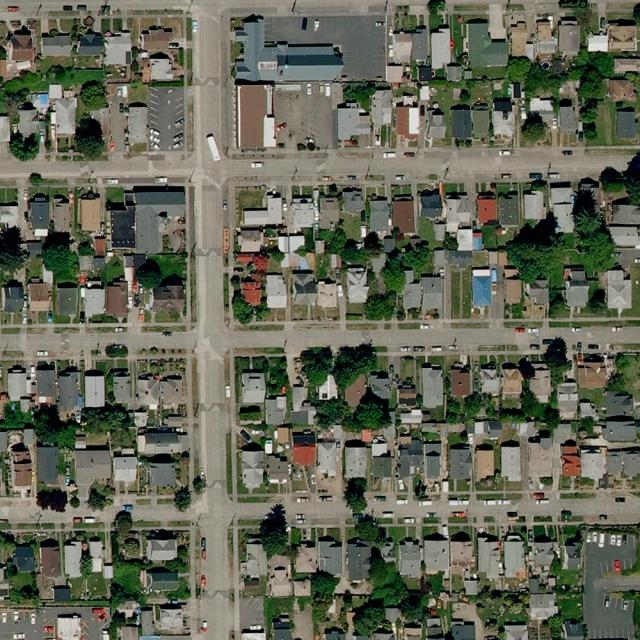building: (234, 15, 345, 83), (134, 186, 185, 254), (235, 83, 277, 149), (466, 17, 510, 69), (332, 101, 372, 142), (587, 21, 638, 53), (136, 425, 189, 455), (139, 374, 184, 408), (73, 449, 113, 485), (564, 264, 591, 316), (339, 370, 374, 410), (242, 192, 283, 226), (392, 25, 428, 63), (549, 181, 573, 233), (241, 442, 266, 490), (8, 31, 37, 71), (139, 566, 180, 594), (267, 555, 294, 597), (529, 430, 552, 478), (421, 362, 444, 409), (111, 206, 136, 249), (11, 443, 33, 490), (478, 532, 500, 579), (446, 192, 471, 233), (424, 532, 449, 573), (527, 362, 552, 403), (146, 530, 178, 562), (152, 283, 186, 313), (147, 453, 176, 488), (82, 279, 107, 319), (399, 438, 424, 478), (430, 25, 452, 70), (57, 366, 79, 411), (348, 538, 371, 581), (603, 414, 637, 443), (103, 32, 131, 67), (525, 280, 550, 319), (292, 269, 318, 306), (421, 275, 444, 316), (317, 536, 341, 575), (504, 532, 524, 578), (157, 600, 184, 634), (345, 440, 369, 478), (241, 369, 267, 404), (492, 97, 514, 138), (80, 191, 102, 232), (371, 438, 393, 479), (291, 431, 316, 467), (496, 191, 520, 228), (35, 446, 59, 483), (246, 539, 268, 579), (395, 104, 420, 139), (346, 266, 369, 304), (606, 279, 633, 311), (500, 440, 521, 481), (399, 538, 421, 577), (501, 362, 524, 399), (559, 16, 580, 56), (52, 193, 73, 233), (532, 533, 556, 568), (528, 592, 558, 620), (54, 98, 76, 136), (28, 192, 50, 230), (392, 196, 414, 234), (141, 24, 173, 50), (36, 363, 56, 404), (84, 368, 105, 407), (371, 89, 393, 126), (106, 281, 128, 318), (450, 531, 472, 568), (580, 448, 606, 479), (40, 538, 60, 578), (558, 380, 578, 420), (129, 102, 148, 144), (369, 198, 390, 236), (57, 281, 79, 317), (266, 273, 288, 309), (450, 444, 472, 480), (148, 52, 174, 82), (577, 362, 607, 388), (561, 439, 581, 478), (41, 33, 73, 57), (292, 198, 314, 232), (27, 282, 51, 313), (450, 104, 471, 139), (111, 368, 132, 403), (480, 362, 501, 397), (605, 391, 634, 416), (295, 543, 319, 573), (2, 280, 24, 312), (471, 102, 490, 139), (112, 456, 138, 483), (475, 444, 495, 479), (17, 107, 40, 137), (615, 108, 638, 138), (370, 371, 393, 401), (63, 540, 81, 578), (318, 440, 336, 478), (316, 278, 338, 309), (608, 80, 637, 103), (478, 191, 498, 224), (238, 228, 264, 253), (8, 365, 26, 401), (424, 441, 441, 479), (420, 190, 443, 218), (524, 191, 546, 220), (450, 368, 471, 398), (473, 419, 503, 440), (88, 536, 105, 573), (56, 614, 81, 639), (116, 595, 141, 620), (78, 32, 104, 56), (267, 455, 289, 483), (277, 233, 306, 254), (472, 275, 491, 307), (12, 545, 34, 572), (265, 396, 286, 424), (320, 198, 339, 228), (240, 279, 261, 306), (510, 21, 526, 56), (342, 188, 364, 213), (559, 105, 578, 133), (402, 282, 421, 310), (504, 276, 523, 304), (447, 249, 473, 269), (397, 384, 418, 408), (372, 454, 392, 478), (579, 398, 599, 422), (0, 203, 19, 228), (319, 375, 338, 400), (562, 619, 584, 640), (425, 617, 445, 639), (535, 18, 553, 42), (400, 408, 424, 424), (456, 229, 473, 251), (0, 564, 10, 601), (530, 97, 554, 112), (386, 64, 404, 83), (445, 62, 463, 81), (0, 115, 12, 142), (404, 622, 422, 640), (290, 410, 310, 426), (54, 584, 72, 601), (294, 579, 312, 596), (432, 221, 447, 241), (434, 249, 446, 271), (385, 608, 400, 624), (464, 579, 479, 594), (22, 429, 35, 446), (606, 269, 625, 280), (529, 576, 540, 594), (49, 84, 62, 99), (0, 431, 9, 452), (102, 564, 114, 579)
greenland: (505, 214, 615, 281), (351, 549, 436, 634), (0, 402, 135, 450), (445, 386, 561, 428), (506, 55, 613, 99), (377, 231, 439, 300), (300, 343, 378, 391), (313, 222, 386, 271), (315, 388, 392, 432), (33, 226, 86, 288), (244, 507, 299, 561), (296, 567, 340, 625), (13, 66, 105, 91), (476, 589, 529, 628), (566, 182, 603, 233), (350, 510, 394, 551), (540, 337, 574, 387), (0, 228, 28, 284), (112, 510, 142, 561), (350, 597, 388, 637), (74, 114, 107, 160), (111, 562, 144, 608), (554, 569, 584, 619), (235, 356, 288, 384), (131, 255, 169, 293), (339, 74, 377, 111), (0, 78, 30, 122), (517, 111, 553, 147), (36, 487, 81, 513), (148, 252, 186, 279), (165, 576, 197, 608), (230, 287, 256, 325), (8, 131, 39, 162), (78, 79, 108, 111), (10, 572, 40, 604), (363, 291, 396, 320), (344, 477, 368, 513), (579, 97, 599, 140), (598, 99, 616, 145), (263, 596, 296, 621), (614, 63, 640, 93), (85, 488, 113, 515), (99, 256, 126, 283), (166, 555, 191, 579), (480, 223, 499, 250), (251, 300, 272, 323), (106, 187, 125, 203)
metalled_road: (234, 317, 640, 359), (0, 1, 430, 32), (265, 15, 388, 83), (0, 324, 190, 361), (582, 525, 640, 640), (0, 156, 193, 187), (0, 495, 131, 533), (288, 493, 356, 545), (129, 496, 192, 529), (445, 1, 559, 16), (75, 606, 110, 639), (236, 495, 271, 527)
